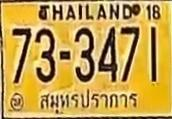1: (150, 26, 156, 83)
3: (34, 27, 54, 82), (74, 27, 94, 81)
4: (98, 26, 118, 81)
7: (12, 26, 31, 82), (120, 26, 139, 80)
SPK: (39, 89, 140, 113)
